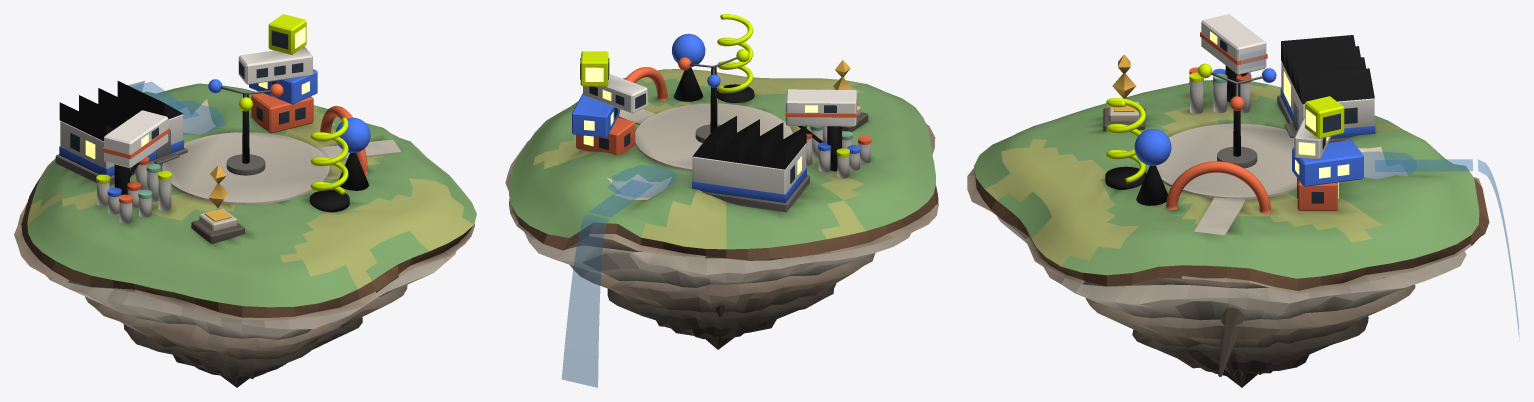
The model's file is playground_lod1.glb.
3 views of the same model, side by side, from view 1: azimuth 30°, elevation 25°; view 2: azimuth 150°, elevation 25°; view 3: azimuth 270°, elevation 25° (orthographic). The views are drawn at different scales.
Visible parts, largest first — view 1: terrain, foundation, buildings, landmarks, water_pond0, water_channel0, anim_spin_kinetic, anim_bounce_6, anim_spin_monument_double, anim_bounce_7, anim_bounce_0, anim_bounce_2; view 2: terrain, foundation, buildings, waterfall_0, landmarks, water_pond0, water_channel0, anim_spin_kinetic, anim_bounce_2, anim_bounce_5; view 3: terrain, foundation, buildings, landmarks, water_pond0, water_channel0, anim_spin_kinetic, waterfall_0, anim_bounce_6, anim_bounce_7, anim_spin_monument_double.
Part boxes in pixels (<box>): terrain: <box>27,83,476,307</box>; foundation: <box>14,177,474,387</box>; buildings: <box>55,14,368,243</box>; landmarks: <box>310,106,370,194</box>; water_pond0: <box>166,100,225,134</box>; water_channel0: <box>131,81,198,118</box>; anim_spin_kinetic: <box>208,79,283,111</box>; anim_bounce_6: <box>158,171,171,211</box>; anim_spin_monument_double: <box>208,165,227,207</box>; anim_bounce_7: <box>146,163,160,201</box>; anim_bounce_0: <box>119,194,132,223</box>; anim_bounce_2: <box>96,174,110,206</box>; terrain: <box>509,69,935,249</box>; foundation: <box>505,123,938,349</box>; buildings: <box>572,51,868,212</box>; waterfall_0: <box>561,214,608,387</box>; landmarks: <box>618,14,753,117</box>; water_pond0: <box>607,165,678,197</box>; water_channel0: <box>589,180,653,217</box>; anim_spin_kinetic: <box>678,49,749,87</box>; anim_bounce_2: <box>836,148,849,178</box>; anim_bounce_5: <box>818,142,831,172</box>; terrain: <box>974,80,1479,278</box>; foundation: <box>967,167,1489,387</box>; buildings: <box>1103,14,1375,210</box>; landmarks: <box>1106,98,1271,213</box>; water_pond0: <box>1361,151,1416,179</box>; water_channel0: <box>1375,159,1473,171</box>; anim_spin_kinetic: <box>1197,63,1276,110</box>; waterfall_0: <box>1478,159,1519,340</box>; anim_bounce_6: <box>1189,72,1203,113</box>; anim_bounce_7: <box>1213,73,1227,113</box>; anim_spin_monument_double: <box>1112,54,1135,98</box>.
Size of the model in its own units: 14.34 by 10.83 by 16.42.
